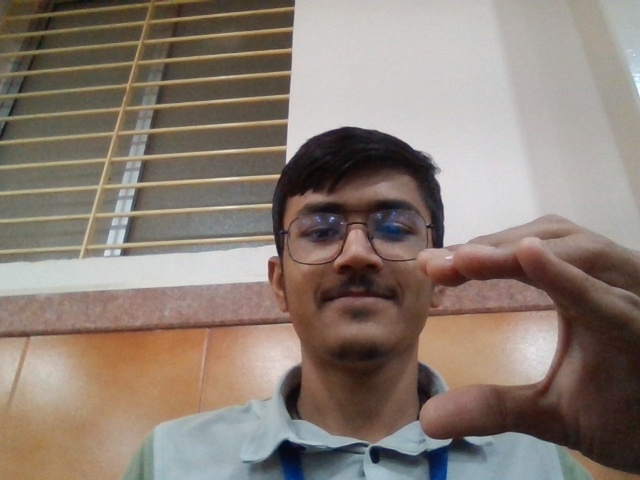No: (414, 211, 640, 478)
